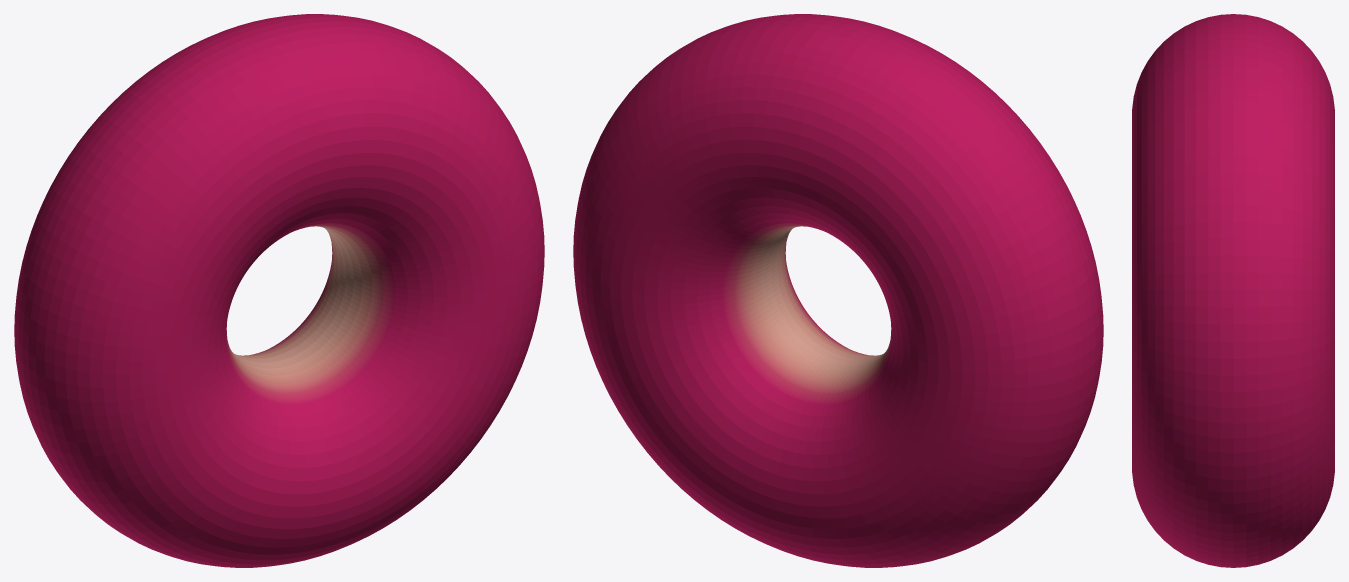
3 renders of one model, left to right at view 1: azimuth 30°, elevation 25°; view 2: azimuth 150°, elevation 25°; view 3: azimuth 270°, elevation 25°, orthographic. The views are drawn at different scales.
Parts seen in each view (by area): view 1: world; view 2: world; view 3: world.
Boxes of the visible parts, bbox=[...] form: world: bbox=[14, 14, 544, 567]; world: bbox=[573, 14, 1103, 567]; world: bbox=[1132, 14, 1334, 567].
Bounding box in the file's own units: 20 × 20 × 7.32.
